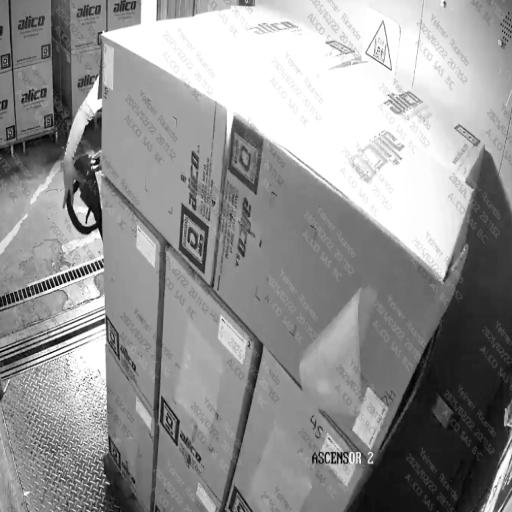Caja no amarrada: (135, 42, 294, 446)
